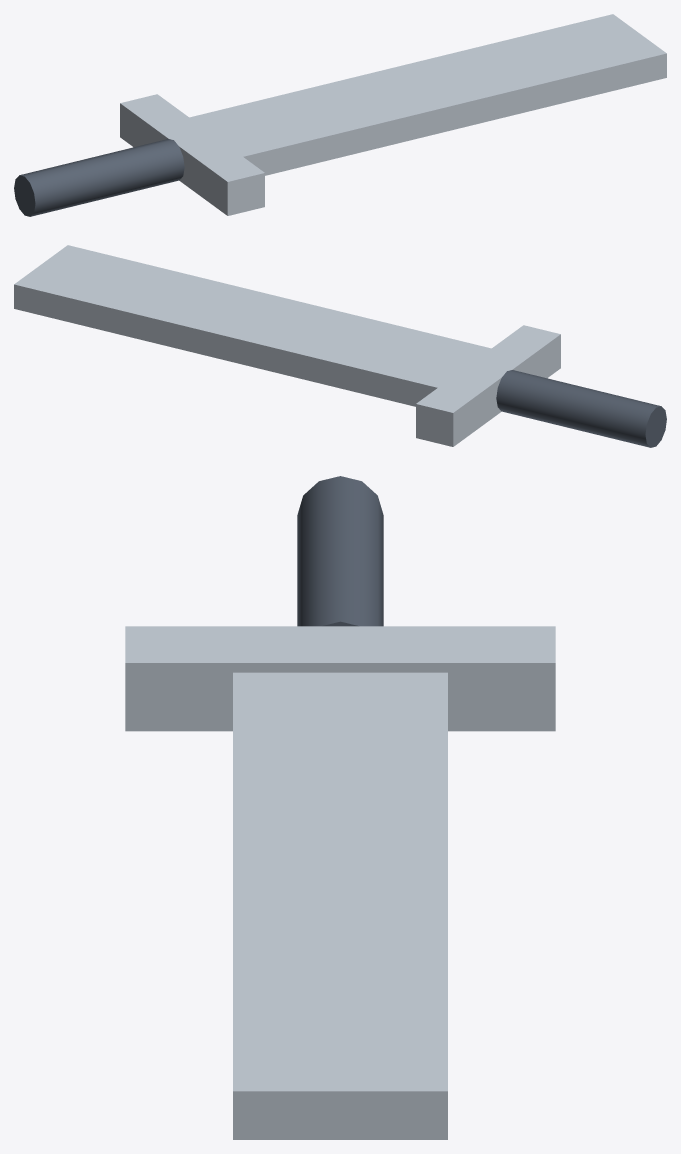
Rendered from sword_short.glb.
The picture shows the model from 3 angles, top to bottom: view 1: azimuth 30°, elevation 25°; view 2: azimuth 150°, elevation 25°; view 3: azimuth 270°, elevation 25°; orthographic projection. The views are drawn at different scales.
Visible parts, largest first — view 1: blade, guard, grip; view 2: blade, guard, grip; view 3: blade, guard, grip.
Part boxes in pixels (x1=…): blade: x1=189, y1=14, x2=666, y2=175; guard: x1=120, y1=94, x2=264, y2=215; grip: x1=14, y1=139, x2=184, y2=216; blade: x1=14, y1=245, x2=491, y2=406; guard: x1=416, y1=325, x2=560, y2=446; grip: x1=496, y1=370, x2=666, y2=447; blade: x1=233, y1=672, x2=447, y2=1139; guard: x1=125, y1=626, x2=555, y2=731; grip: x1=297, y1=476, x2=383, y2=626.
Bounding box in the file's own units: 0.66 × 0.04 × 0.2.
